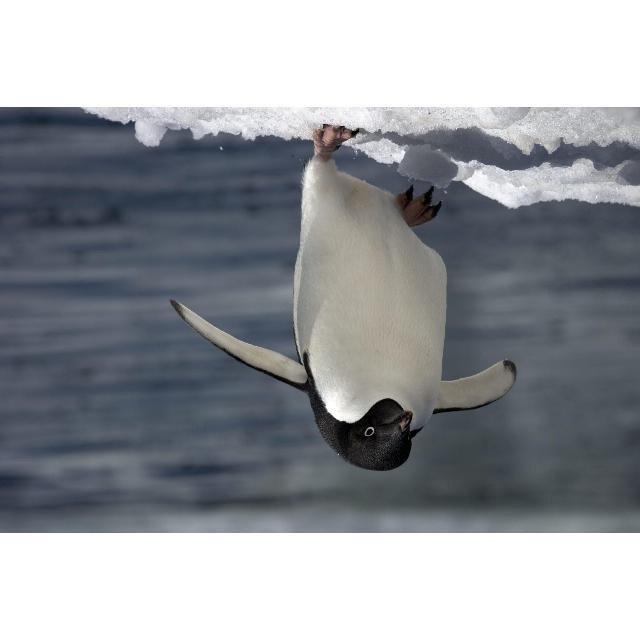penguin: (170, 124, 518, 471)
